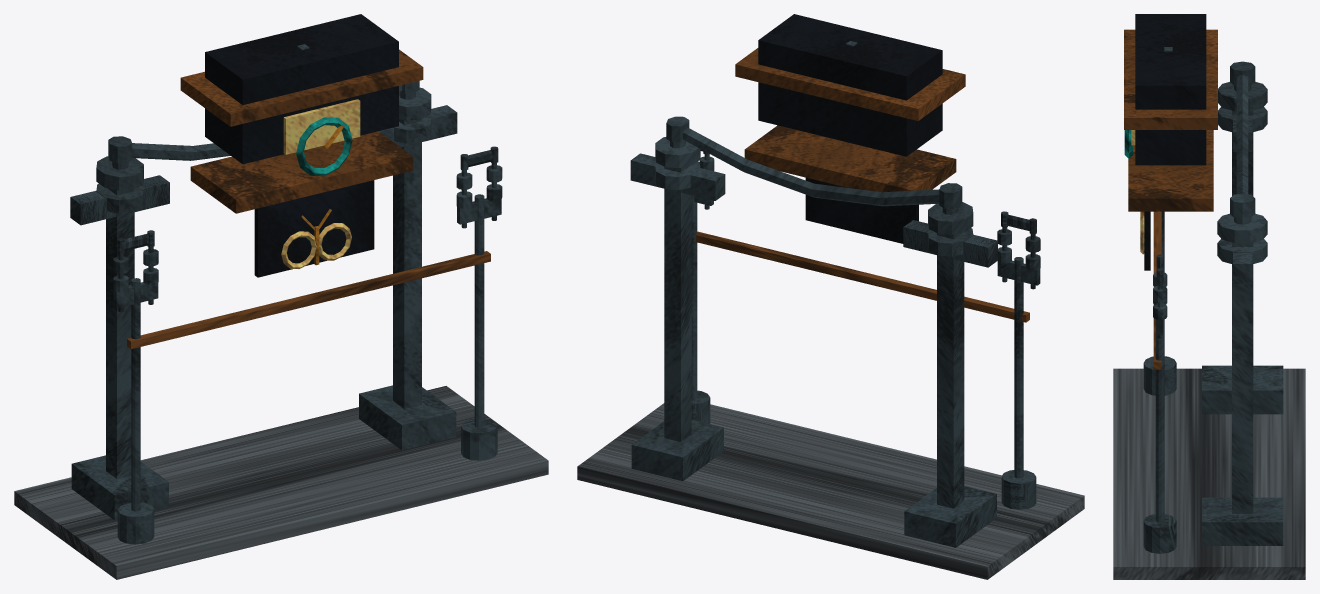
The model's file is north-migration-watch-gate.glb.
3 renders of one model, left to right at view 1: azimuth 30°, elevation 25°; view 2: azimuth 150°, elevation 25°; view 3: azimuth 270°, elevation 25°, orthographic. The views are drawn at different scales.
Parts seen in each view (by area): view 1: north-migration-watch-gate; view 2: north-migration-watch-gate; view 3: north-migration-watch-gate.
Boxes of the visible parts, x1,y1,x2,y2 form: north-migration-watch-gate: (14,14,548,579); north-migration-watch-gate: (577,14,1084,579); north-migration-watch-gate: (1113,14,1305,579).
Bounding box in the file's own units: 7.8 × 7.92 × 3.2.
1 material, 1 textured.
